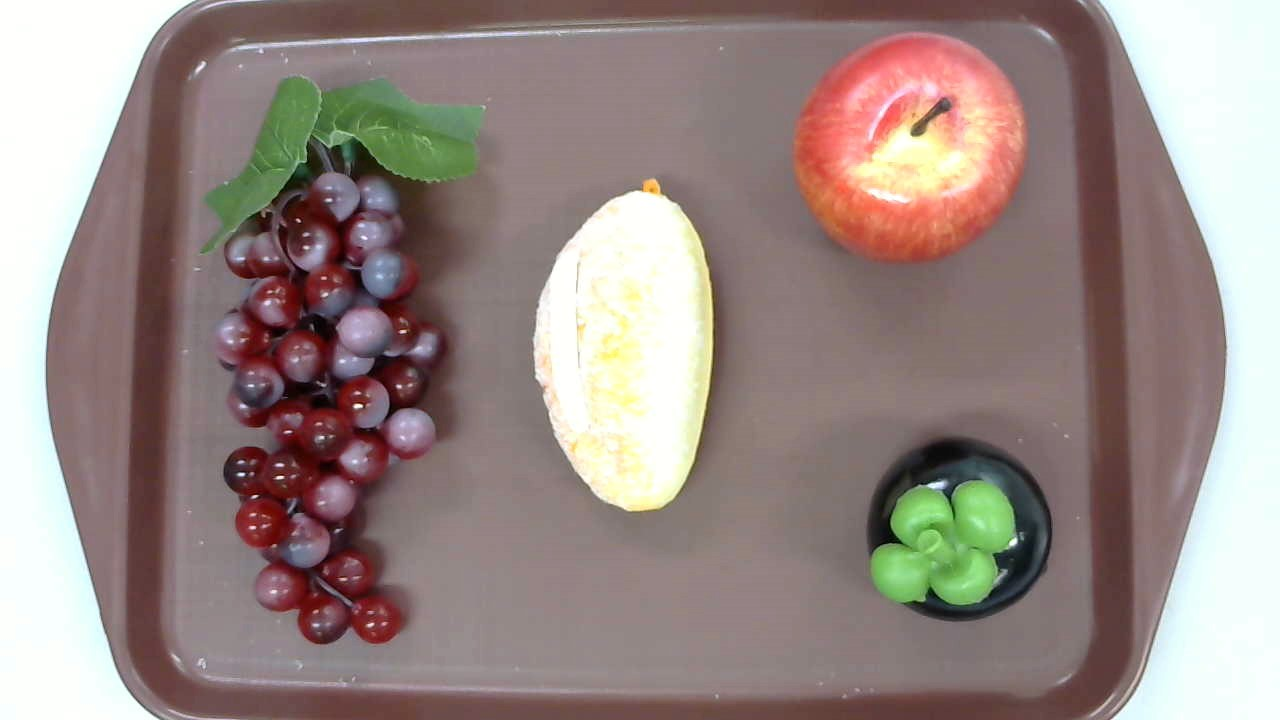coconut: (532, 178, 715, 513)
grape: (198, 73, 485, 646)
mangosteen: (867, 437, 1053, 623)
red apple: (790, 31, 1027, 266)
